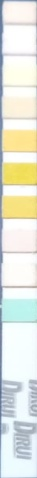color 1: (4, 4, 34, 21)
color 10: (2, 301, 37, 318)
color 2: (3, 36, 34, 52)
color 3: (4, 69, 37, 84)
color 4: (4, 99, 37, 116)
color 5: (3, 131, 37, 149)
color 6: (3, 165, 37, 183)
color 7: (3, 199, 37, 216)
color 8: (3, 234, 37, 250)
color 9: (3, 267, 37, 286)
